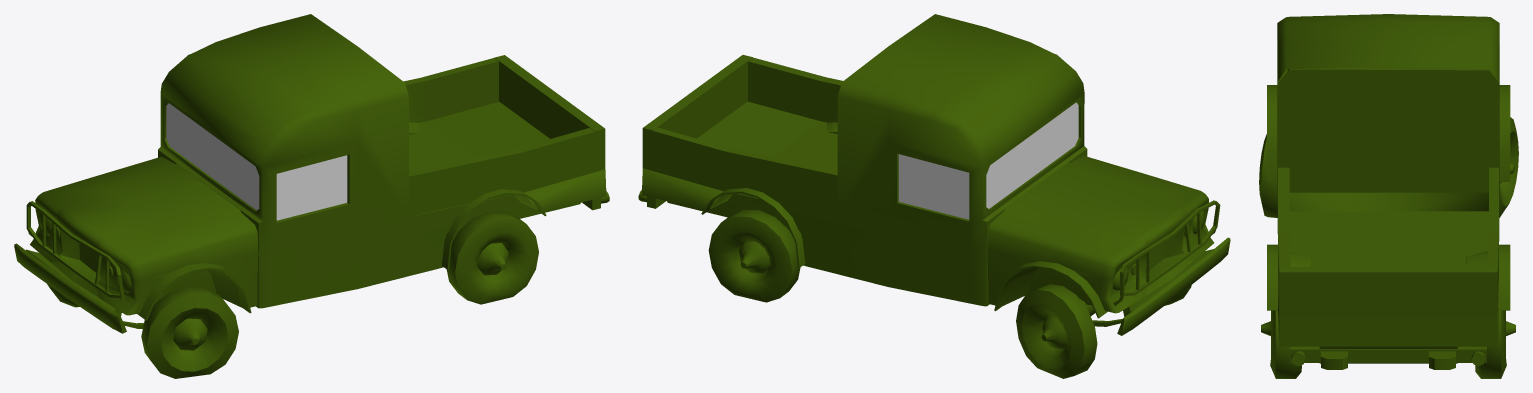
File: ambulance.fbx
The picture shows the model from 3 angles, left to right: view 1: azimuth 30°, elevation 25°; view 2: azimuth 150°, elevation 25°; view 3: azimuth 270°, elevation 25°; orthographic projection. The views are drawn at different scales.
Parts seen in each view (by area): view 1: ambulance, truckbed, windows, frontLeft, rearLeft; view 2: ambulance, truckbed, windows, rearRight, frontRight; view 3: truckbed, ambulance, rearLeft, rearRight, frontRight, frontLeft.
Boxes of the visible parts, x1=… form: ambulance: x1=14, y1=14, x2=609, y2=333; truckbed: x1=403, y1=55, x2=605, y2=216; windows: x1=166, y1=103, x2=347, y2=220; frontLeft: x1=141, y1=286, x2=238, y2=378; rearLeft: x1=446, y1=211, x2=538, y2=304; ambulance: x1=638, y1=14, x2=1230, y2=335; truckbed: x1=642, y1=55, x2=842, y2=201; windows: x1=898, y1=102, x2=1078, y2=219; rearRight: x1=708, y1=209, x2=800, y2=302; frontRight: x1=1016, y1=284, x2=1097, y2=378; truckbed: x1=1278, y1=67, x2=1498, y2=316; ambulance: x1=1267, y1=14, x2=1510, y2=369; rearLeft: x1=1261, y1=310, x2=1301, y2=378; rearRight: x1=1475, y1=310, x2=1515, y2=378; frontRight: x1=1499, y1=117, x2=1518, y2=217; frontLeft: x1=1259, y1=134, x2=1277, y2=217.
Size of the model in its own units: 417 by 185 by 170.
